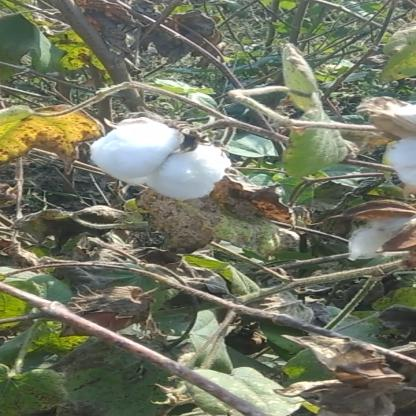cotton_ready: (59, 107, 247, 208)
